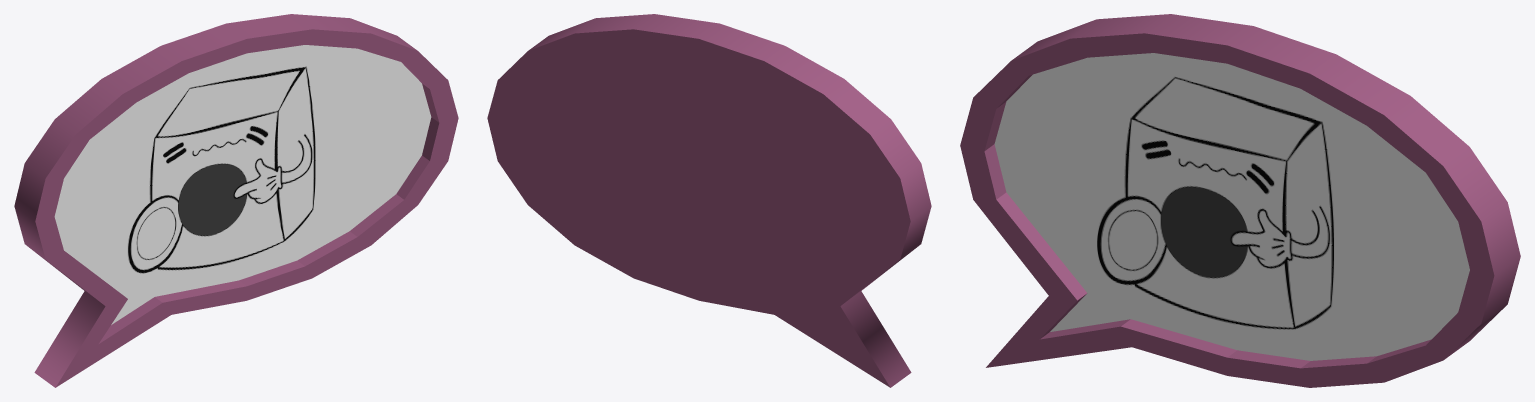
File: bubble.fbx
3 views of the same model, side by side, from view 1: azimuth 30°, elevation 25°; view 2: azimuth 150°, elevation 25°; view 3: azimuth 330°, elevation 25° (orthographic). The views are drawn at different scales.
Visible parts, largest first — view 1: bubble; view 2: bubble; view 3: bubble.
Boxes of the visible parts, bbox=[...] form: bubble: bbox=[14, 14, 458, 387]; bubble: bbox=[487, 14, 931, 387]; bubble: bbox=[960, 14, 1520, 387].
Bounding box in the file's own units: 2.47 × 1.69 × 0.212.
